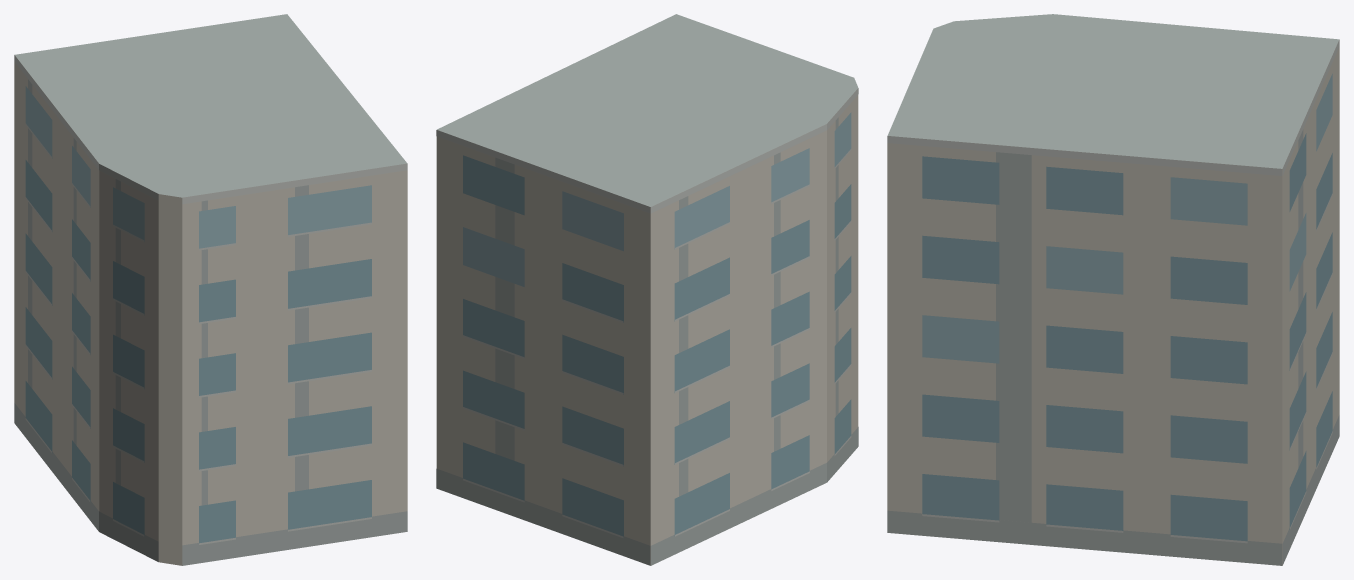
File: survey-upis-32624326.glb
3 views of the same model, side by side, from view 1: azimuth 30°, elevation 25°; view 2: azimuth 150°, elevation 25°; view 3: azimuth 270°, elevation 25° (orthographic). The views are drawn at different scales.
Visible parts, largest first — view 1: survey-upis-32624326.tmp; view 2: survey-upis-32624326.tmp; view 3: survey-upis-32624326.tmp.
Part boxes in pixels (x1,y1,x2,y2): survey-upis-32624326.tmp: [14, 14, 407, 565]; survey-upis-32624326.tmp: [436, 14, 858, 565]; survey-upis-32624326.tmp: [887, 14, 1339, 565].
Size of the model in its own units: 11.22 by 13.4 by 13.84.
